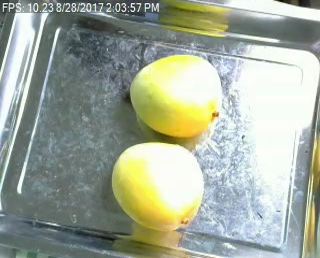Mango: (110, 141, 209, 229), (123, 52, 222, 137)
